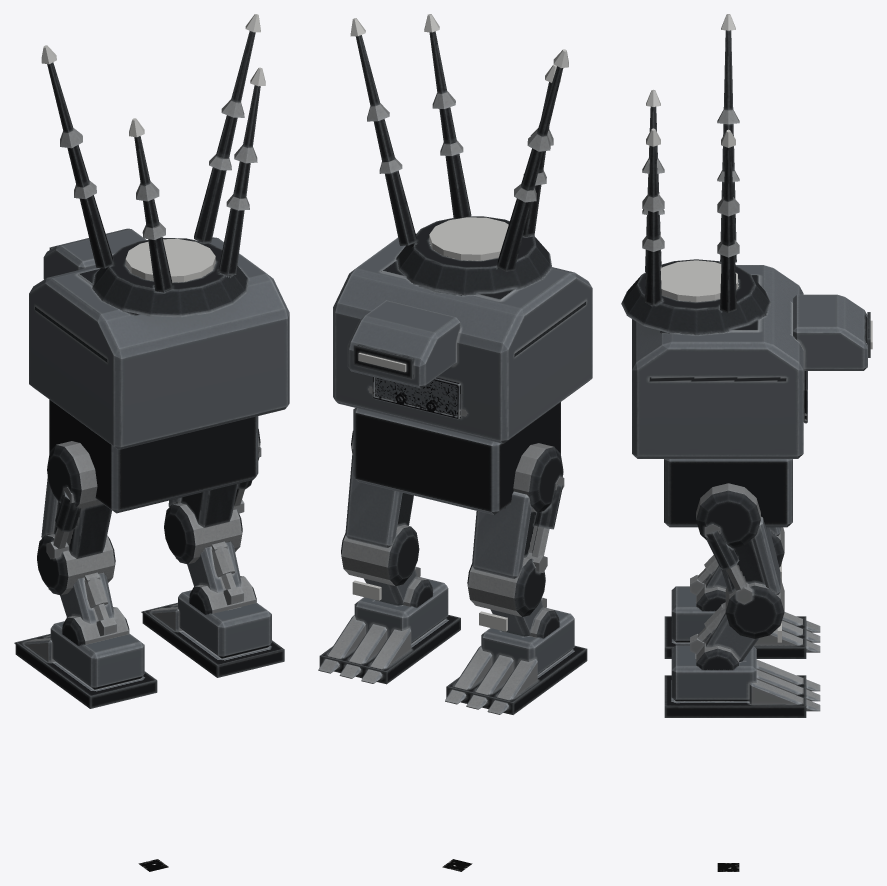
File: chs_gloom.fbx
The picture shows the model from 3 angles, left to right: view 1: azimuth 30°, elevation 25°; view 2: azimuth 150°, elevation 25°; view 3: azimuth 270°, elevation 25°; orthographic projection. The views are drawn at different scales.
Parts seen in each view (by area): view 1: torso_bar, base_bar, thighL_bar, footL_bar, footR_bar, thighR_bar, shinR_bar, shinL_bar, torso_glow_power_bar; view 2: torso_bar, base_bar, thighL_bar, footR_bar, footL_bar, thighR_bar, torso_glow_power_bar, shinR_bar, shinL_bar; view 3: torso_bar, thighR_bar, footR_bar, base_bar, footL_bar, torso_glow_power_bar, shinR_bar, shinL_bar.
Part boxes in pixels (<box>): torso_bar: <box>29,31,289,449</box>; base_bar: <box>49,399,258,513</box>; thighL_bar: <box>37,441,115,595</box>; footL_bar: <box>14,621,157,708</box>; footR_bar: <box>141,590,284,677</box>; thighR_bar: <box>164,429,261,564</box>; shinR_bar: <box>187,541,256,614</box>; shinL_bar: <box>60,572,129,645</box>; torso_glow_power_bar: <box>41,14,265,282</box>; torso_bar: <box>333,31,592,443</box>; base_bar: <box>353,402,560,514</box>; thighL_bar: <box>467,443,564,616</box>; footR_bar: <box>318,577,460,684</box>; footL_bar: <box>445,608,587,714</box>; thighR_bar: <box>341,431,419,586</box>; torso_glow_power_bar: <box>350,14,568,260</box>; shinR_bar: <box>364,566,432,607</box>; shinL_bar: <box>490,597,559,638</box>; torso_bar: <box>621,30,870,458</box>; thighR_bar: <box>696,483,784,638</box>; footR_bar: <box>664,645,820,717</box>; base_bar: <box>664,459,792,527</box>; footL_bar: <box>664,586,820,658</box>; torso_glow_power_bar: <box>646,14,737,302</box>; shinR_bar: <box>690,602,758,670</box>; shinL_bar: <box>690,555,726,611</box>.
Bounding box in the file's own units: 224 × 827 × 234.
2 materials, 2 textured.
